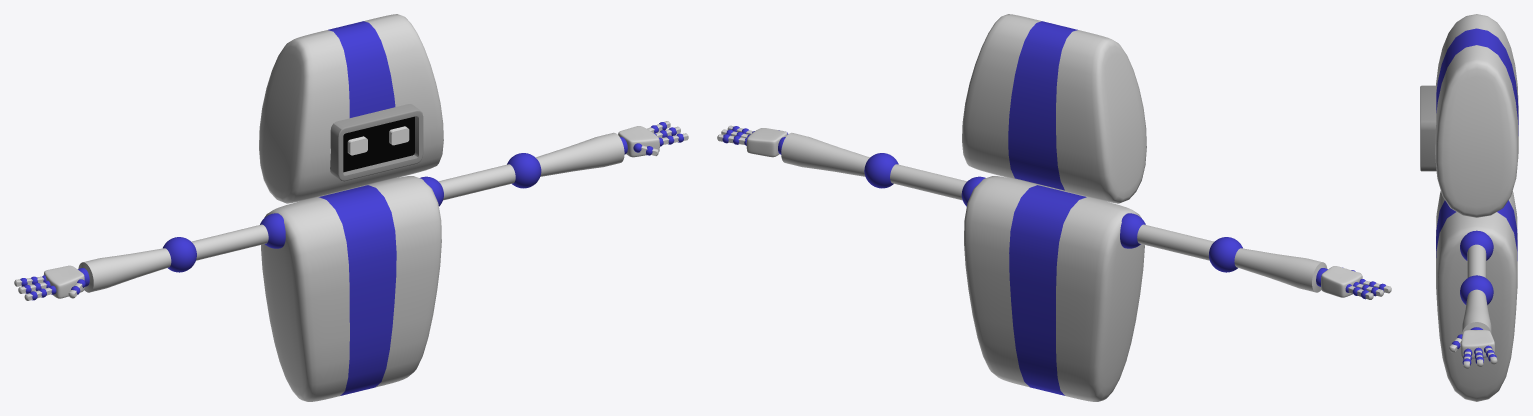
The model's file is Robo.fbx.
3 renders of one model, left to right at view 1: azimuth 30°, elevation 25°; view 2: azimuth 150°, elevation 25°; view 3: azimuth 270°, elevation 25°, orthographic. The views are drawn at different scales.
Visible parts, largest first — view 1: Corpo, Cabeca, Visor, Antebraco E, Antebraco E.001, Braco E.001, Braco E, Mao E.001, Mao E, Olhos; view 2: Corpo, Cabeca, Antebraco E, Antebraco E.001, Braco E.001, Braco E, Mao E.001, Mao E; view 3: Cabeca, Corpo, Antebraco E, Visor, Braco E, Mao E.
Boxes of the visible parts, box(x1,y1,x2,y2) form: Corpo: box(261, 176, 441, 401); Cabeca: box(259, 14, 443, 203); Visor: box(330, 104, 423, 181); Antebraco E: box(507, 132, 624, 188); Antebraco E.001: box(78, 237, 196, 292); Braco E.001: box(191, 213, 285, 260); Braco E: box(420, 164, 515, 206); Mao E.001: box(44, 265, 89, 298); Mao E: box(618, 126, 659, 157); Olhos: box(347, 126, 409, 155); Corpo: box(964, 176, 1144, 401); Cabeca: box(962, 14, 1146, 203); Antebraco E: box(781, 132, 898, 188); Antebraco E.001: box(1209, 237, 1327, 292); Braco E.001: box(1120, 213, 1213, 260); Braco E: box(890, 164, 985, 206); Mao E.001: box(1316, 266, 1362, 297); Mao E: box(746, 128, 787, 157); Cabeca: box(1435, 14, 1518, 217); Corpo: box(1436, 191, 1517, 401); Antebraco E: box(1460, 275, 1493, 334); Visor: box(1420, 85, 1436, 171); Braco E: box(1460, 230, 1493, 277); Mao E: box(1461, 327, 1494, 358).
Bounding box in the file's own units: 857 × 449 × 116.
